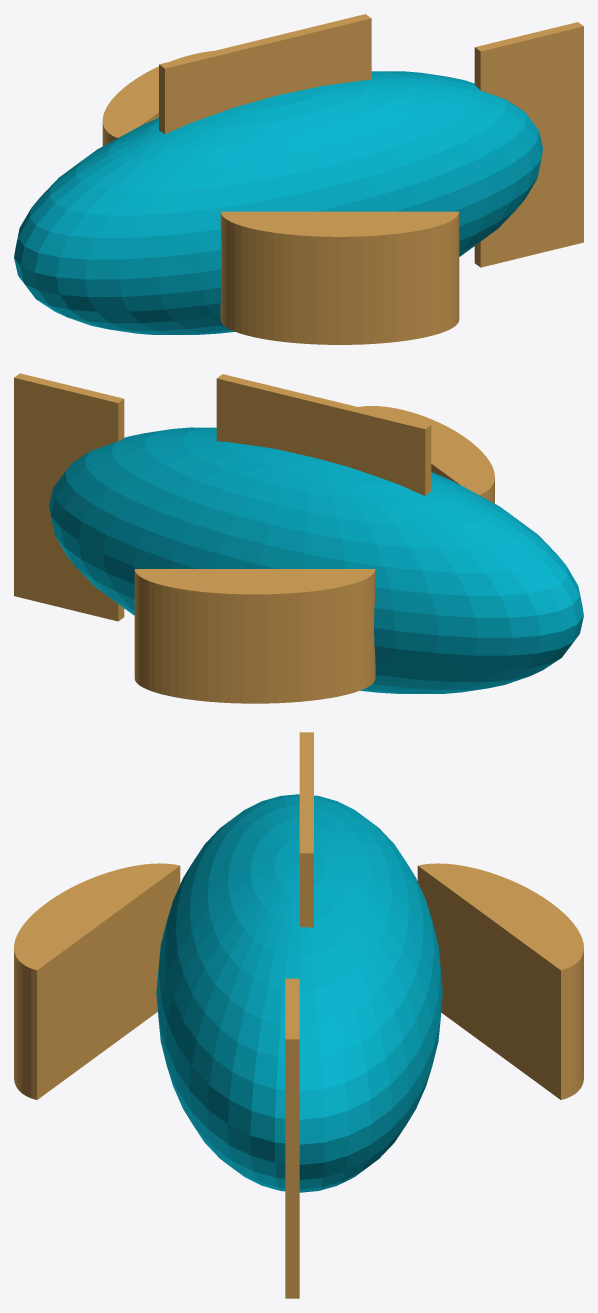
Rendered from fish.glb.
The picture shows the model from 3 angles, top to bottom: view 1: azimuth 30°, elevation 25°; view 2: azimuth 150°, elevation 25°; view 3: azimuth 270°, elevation 25°; orthographic projection. The views are drawn at different scales.
Visible parts, largest first — view 1: Mesh_Mesh_head_geo.001_lambert2SG.001; view 2: Mesh_Mesh_head_geo.001_lambert2SG.001; view 3: Mesh_Mesh_head_geo.001_lambert2SG.001.
Part boxes in pixels (bbox=[...]): Mesh_Mesh_head_geo.001_lambert2SG.001: bbox=[14, 14, 583, 344]; Mesh_Mesh_head_geo.001_lambert2SG.001: bbox=[14, 373, 583, 703]; Mesh_Mesh_head_geo.001_lambert2SG.001: bbox=[14, 732, 583, 1298].
Bounding box in the file's own units: 54 × 25 × 39.81.
